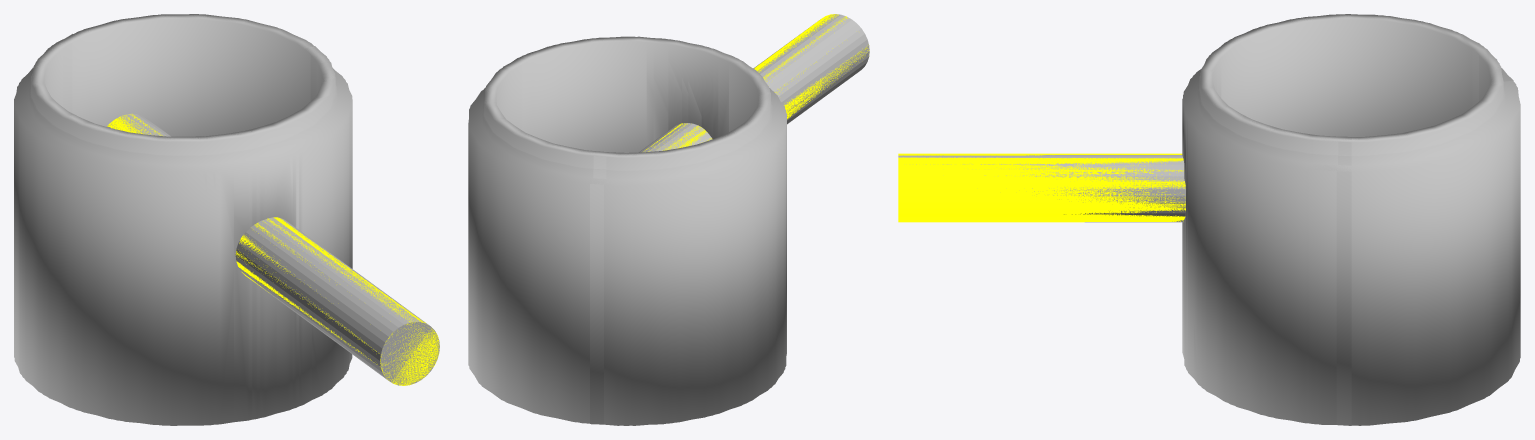
File: LOT134_5f591789.glb
3 views of the same model, side by side, from view 1: azimuth 30°, elevation 25°; view 2: azimuth 150°, elevation 25°; view 3: azimuth 270°, elevation 25° (orthographic). The views are drawn at different scales.
Parts seen in each view (by area): view 1: 1200x1.219mr_Obj, Cylinder; view 2: 1200x1.219mr_Obj, Cylinder; view 3: 1200x1.219mr_Obj, Cylinder.
Boxes of the visible parts, box(x1,y1,x2,y2) form: 1200x1.219mr_Obj: box(14, 14, 439, 425); Cylinder: box(107, 114, 439, 385); 1200x1.219mr_Obj: box(468, 14, 869, 425); Cylinder: box(643, 14, 869, 151); 1200x1.219mr_Obj: box(898, 14, 1520, 425); Cylinder: box(898, 153, 1185, 222).
Size of the model in its own units: 1.47 by 1.33 by 2.71.
